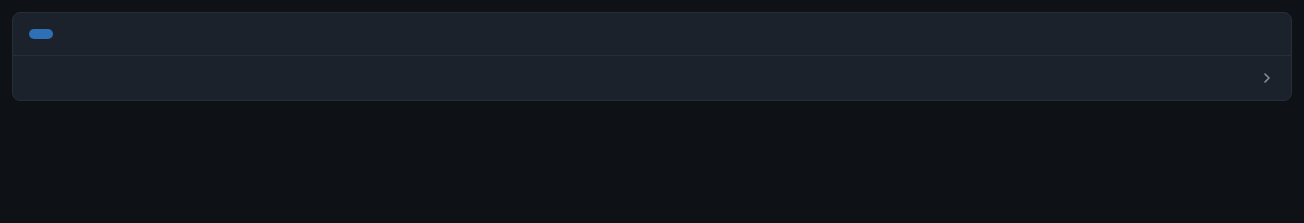
Test: AccountSettings › folds the server address away for the official service, naming it
Click the 2nd button.
click(1267, 78)  # box 13,56 -> 1291,100
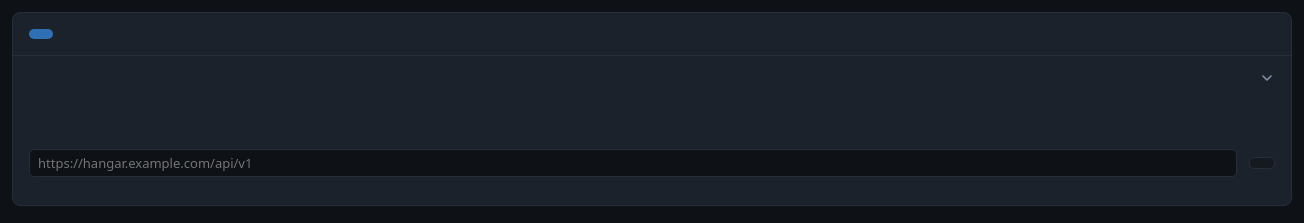
Now the field with id "account-server" is shown, box 29,149 -> 1237,177
